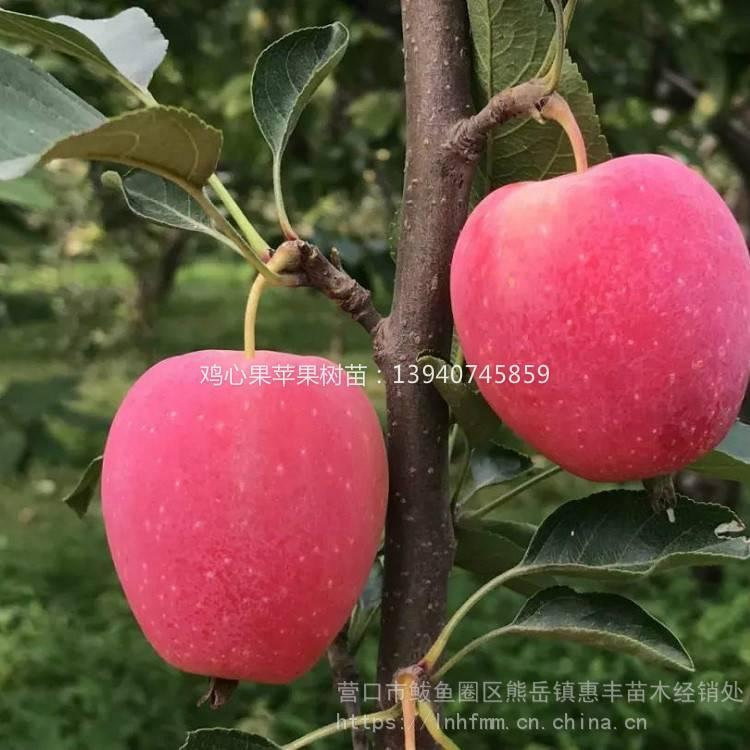apple: (96, 351, 388, 683), (455, 159, 748, 483)
